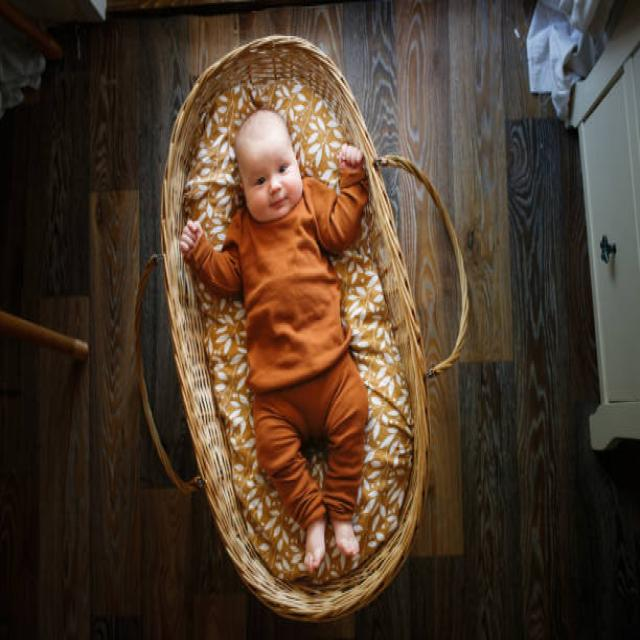baby: (178, 105, 371, 573)
crib: (139, 33, 468, 623)
